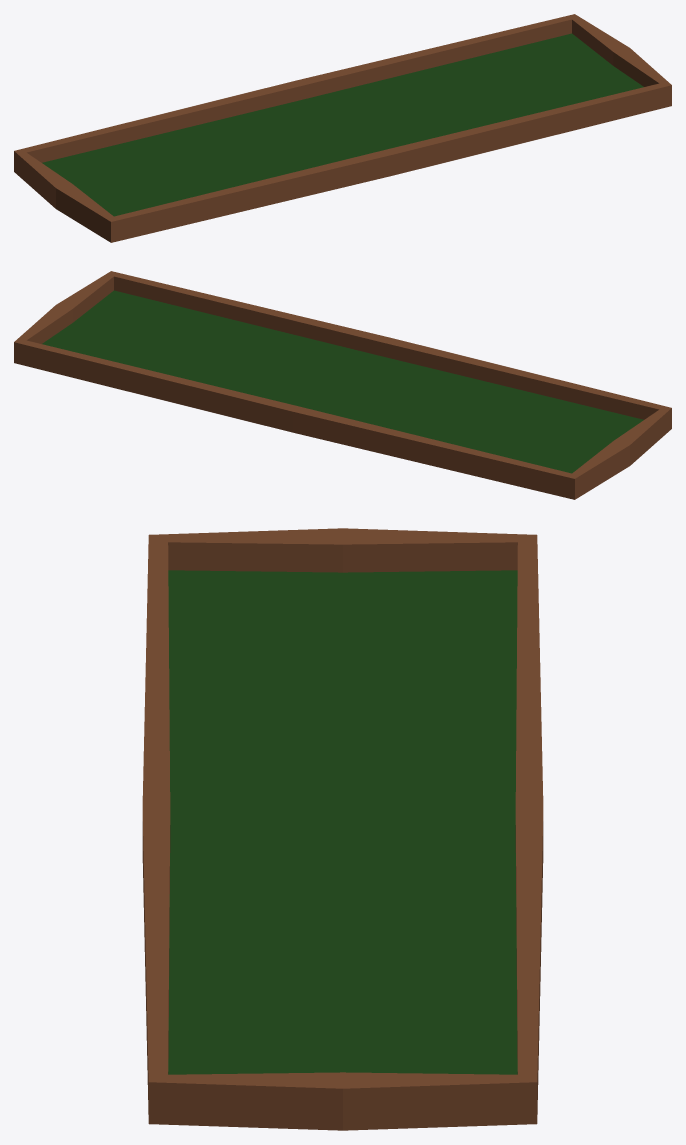
The model's file is GrassRectangleBrown.obj.
The picture shows the model from 3 angles, top to bottom: view 1: azimuth 30°, elevation 25°; view 2: azimuth 150°, elevation 25°; view 3: azimuth 270°, elevation 25°; orthographic projection. The views are drawn at different scales.
Parts seen in each view (by area): view 1: trawka.006; view 2: trawka.006; view 3: trawka.006.
Boxes of the visible parts, left/top/right/bottom form: trawka.006: left=14, top=14, right=671, bottom=242; trawka.006: left=14, top=271, right=671, bottom=499; trawka.006: left=142, top=528, right=543, bottom=1130.
Bounding box in the file's own units: 17.2 × 0.6 × 5.2.
